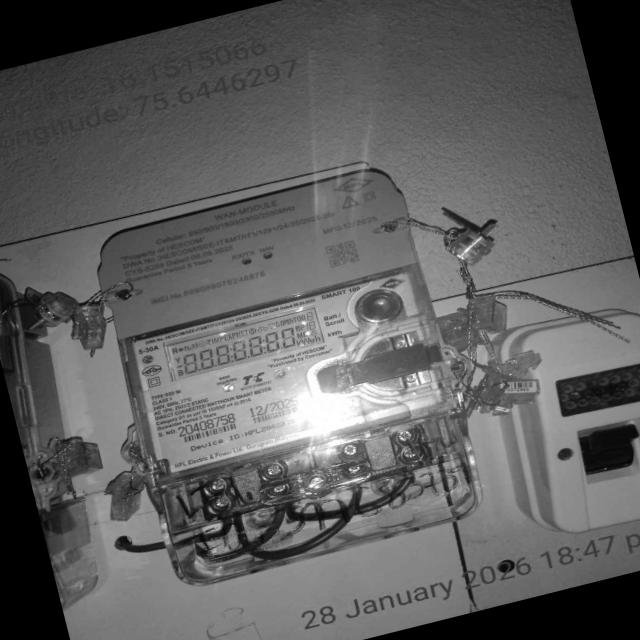meter: (84, 161, 454, 486)
